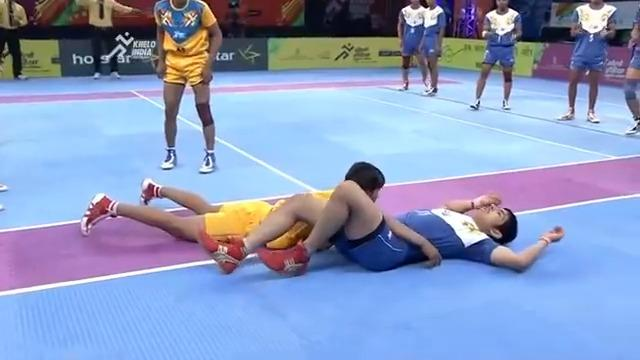Player: (99, 160, 384, 238), (149, 0, 224, 174), (555, 0, 617, 123), (469, 0, 523, 111)
Raider: (214, 197, 565, 279)
referee: (75, 0, 141, 79), (0, 0, 28, 80)
